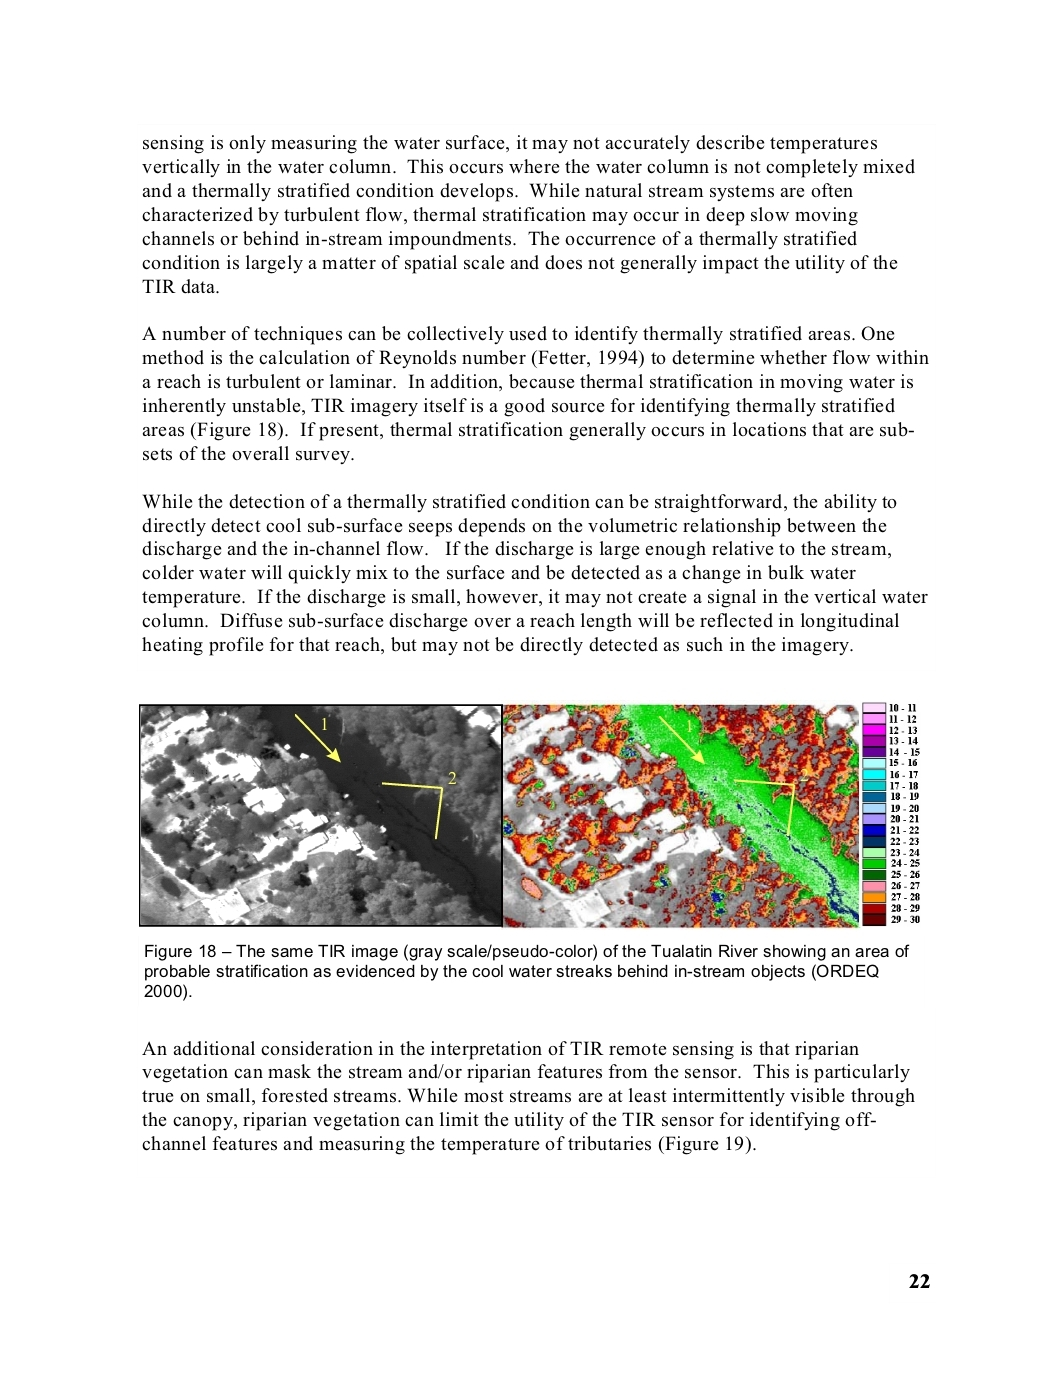figure: (139, 701, 919, 929)
